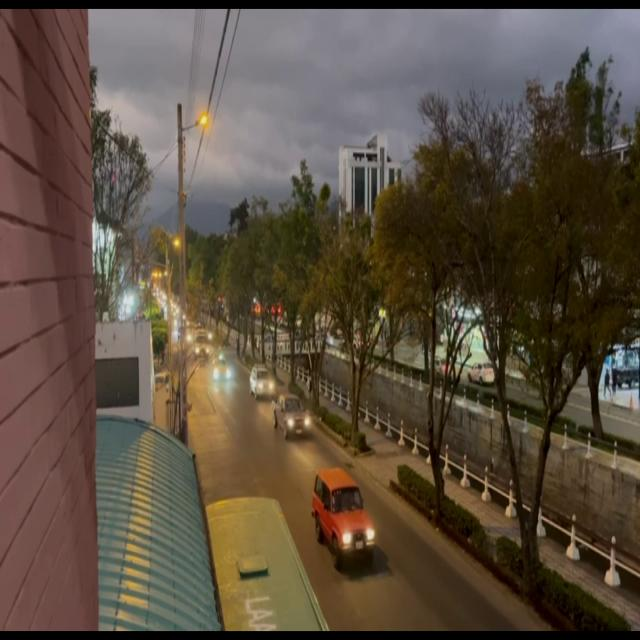CMT: (272, 397, 306, 438)
SUV: (316, 473, 375, 565), (250, 368, 273, 398)
